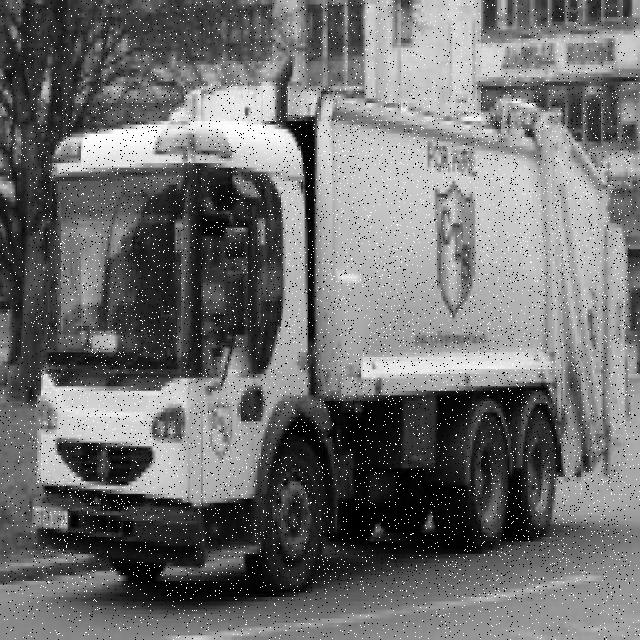Garbage Truck: (32, 83, 631, 598)
